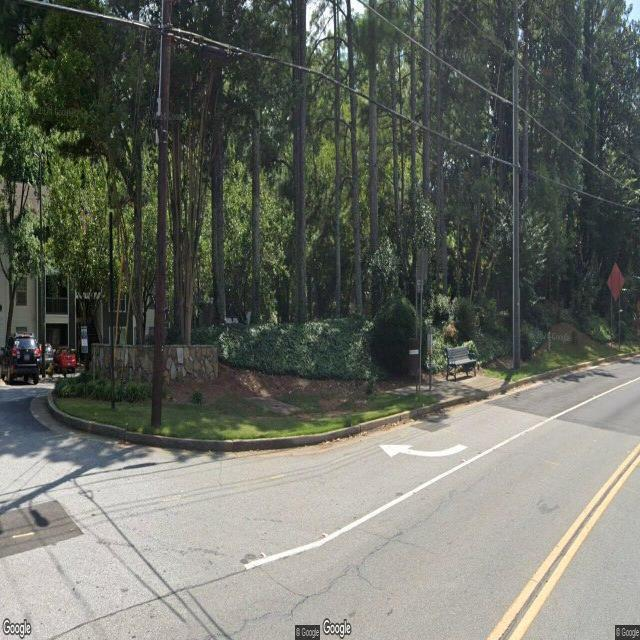seating: (445, 345, 477, 382)
trash_can: (408, 337, 419, 376)
